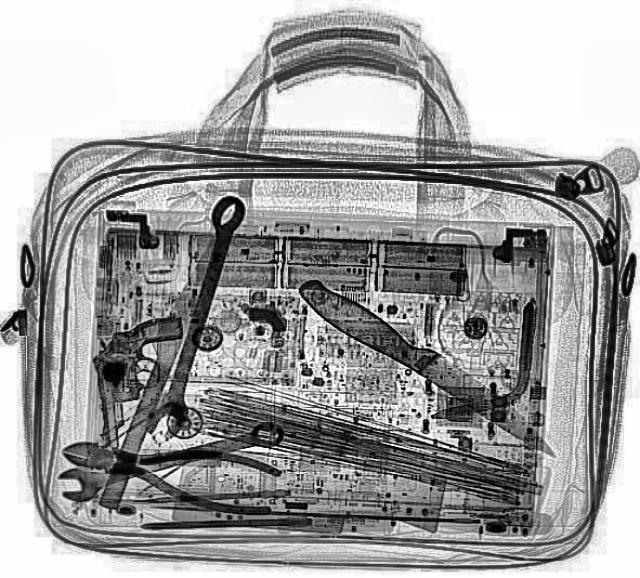Gun: (88, 313, 196, 469)
Knife: (290, 274, 570, 462), (88, 225, 228, 508)
Pliers: (52, 423, 284, 521)
Wrench: (141, 192, 251, 438), (54, 413, 288, 505)
